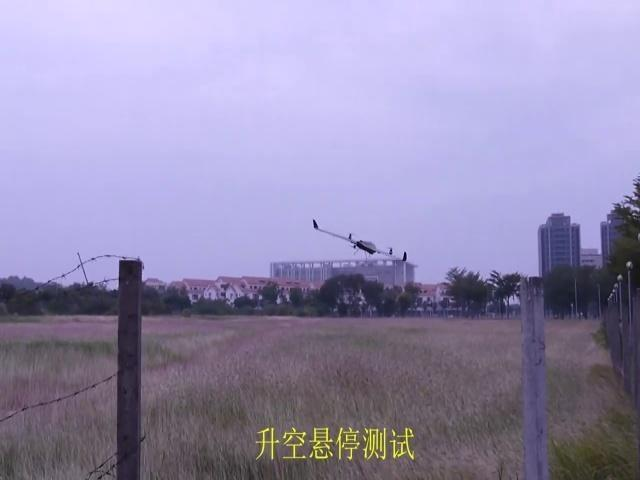Airplane: (312, 218, 407, 263)
